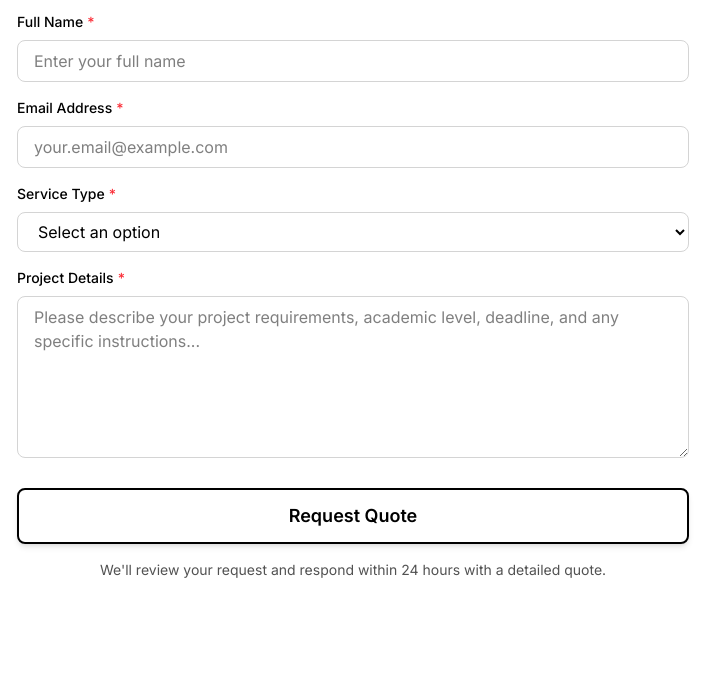
Test: QuoteForm Component › validates email format
In the field labelled "Email Address*": (353,147) [17,126,689,168], type "invalid-email"
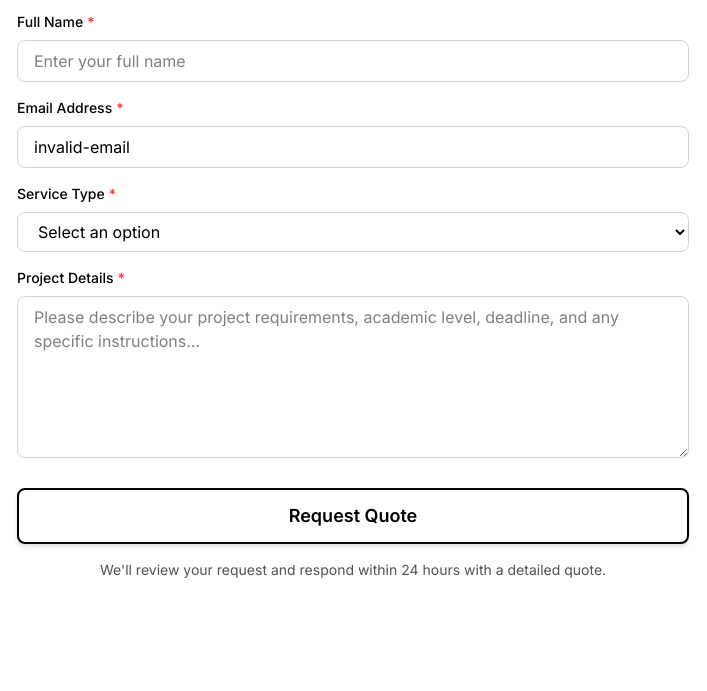
Click the button "Request Quote": (353,516) [17,488,689,544]
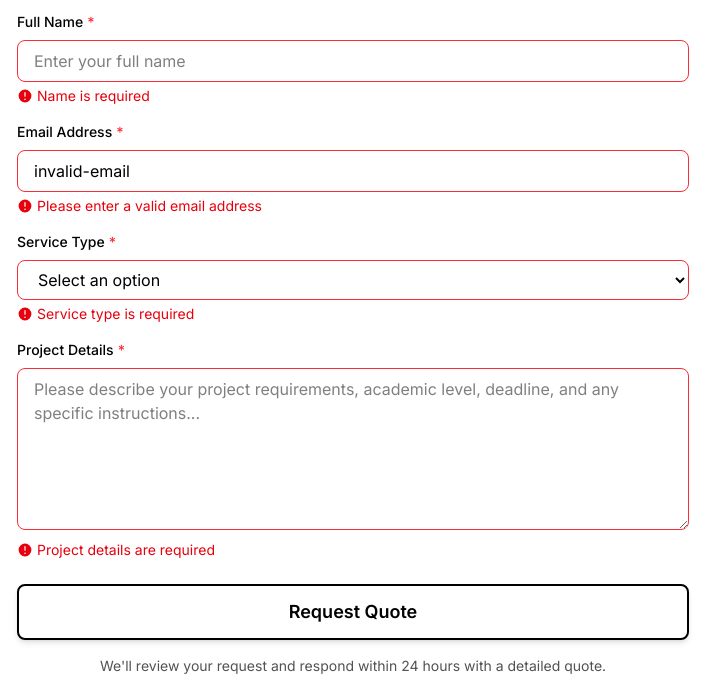
Expected: the text "Please enter a valid email address" is shown, [17,197,262,214]
